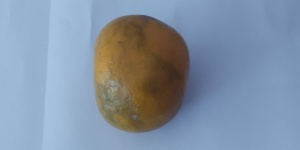BAD: (93, 10, 193, 135)
